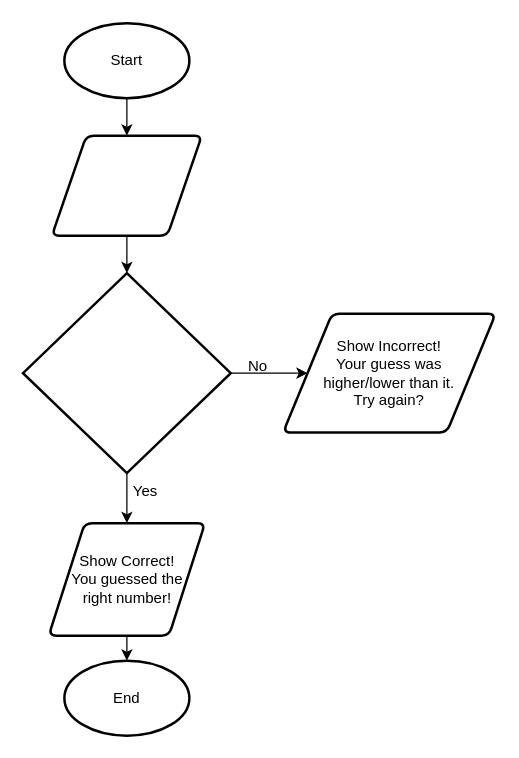
Image size: 519x758. Some labels were removed from this diagram. The centre of each missing label's shape, as x and y in pixels:
"Get Inputted number" belongs at (126,185).
"Is the inputted number the same as number to guess?" belongs at (126,372).
